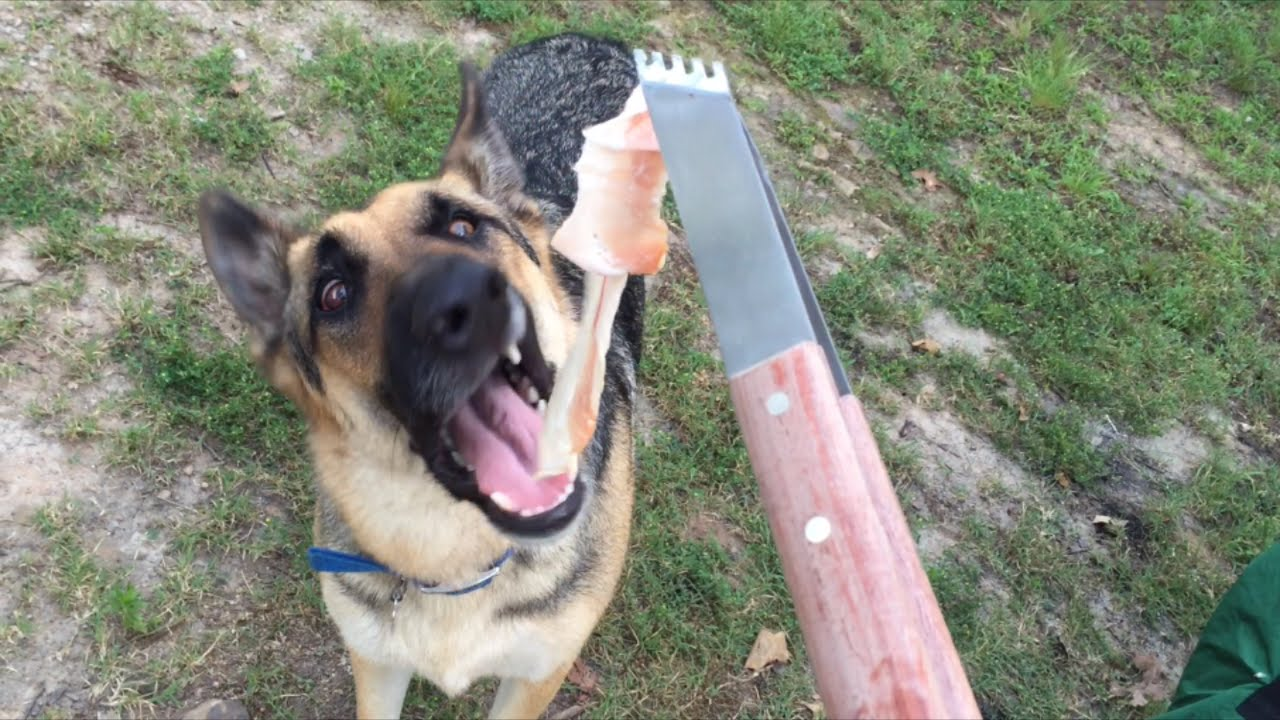bacon: (561, 92, 688, 275)
